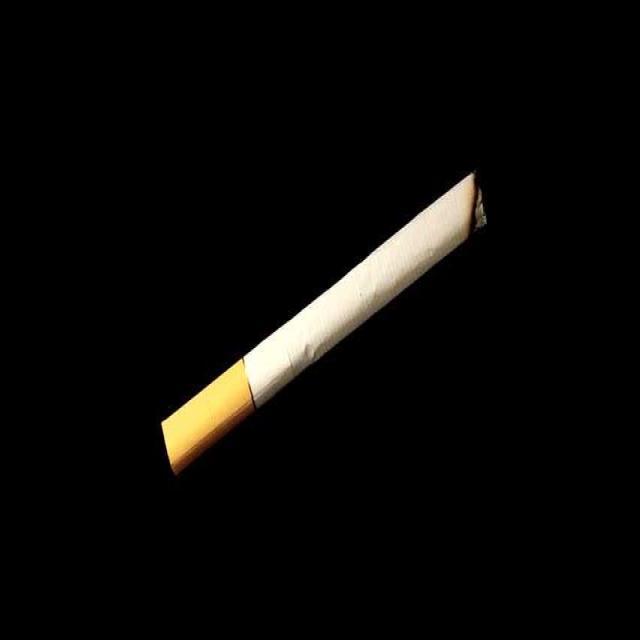Smooking: (85, 135, 518, 507)
